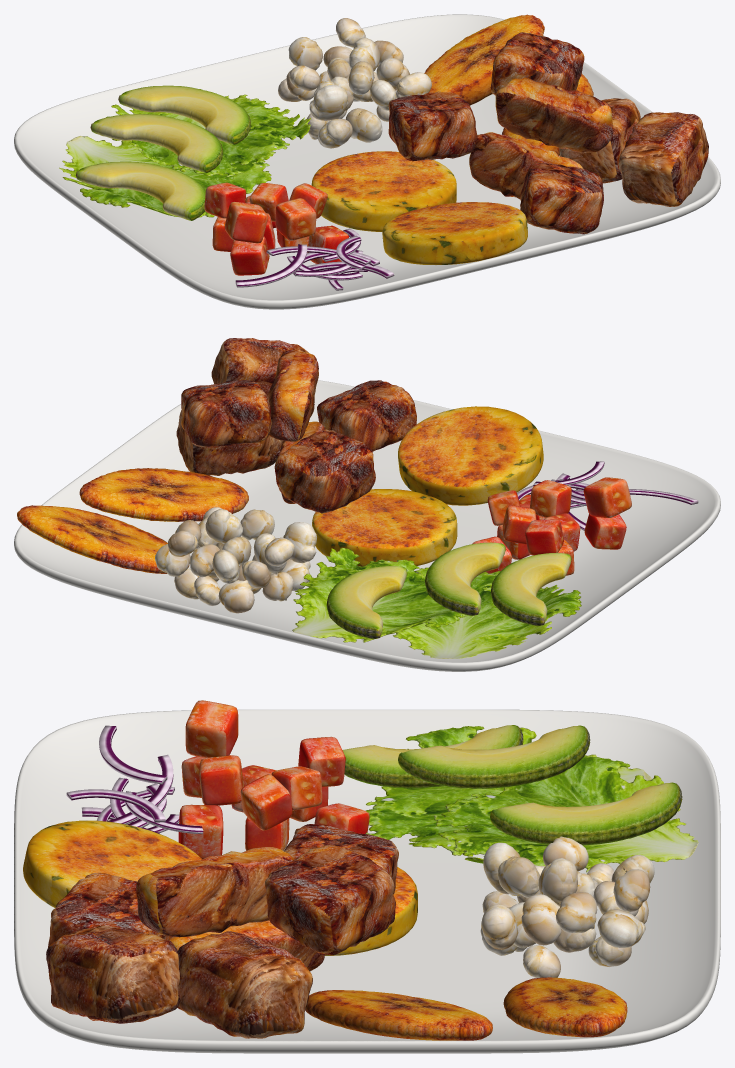
File: fritada.glb
The picture shows the model from 3 angles, top to bottom: view 1: azimuth 30°, elevation 25°; view 2: azimuth 150°, elevation 25°; view 3: azimuth 270°, elevation 25°; orthographic projection. The views are drawn at different scales.
Visible parts, largest first — view 1: plato, llapingacho.001, llapingacho.003, carneA.002, carneB.001, carneC.002, carneC.001, lechuga.003, lechuga.002, maduro.001, aguacate.003, aguacate.001 (+27 smaller); view 2: plato, llapingacho.003, llapingacho.001, maduro.002, lechuga.003, carneC.002, lechuga.002, maduro.001, carneC.003, carneC.001, aguacate.003, aguacate.001 (+26 smaller); view 3: plato, carneA.001, lechuga.003, carneA.002, carneC.003, carneB.001, llapingacho.003, aguacate.003, aguacate.001, maduro.002, lechuga.002, maduro.001 (+32 smaller).
Boxes of the visible parts, <box> form: plato: <box>14,14,720,309</box>; llapingacho.001: <box>311,151,456,231</box>; llapingacho.003: <box>382,202,527,264</box>; carneA.002: <box>618,112,708,206</box>; carneB.001: <box>495,77,613,152</box>; carneC.002: <box>388,91,477,161</box>; carneC.001: <box>520,162,603,234</box>; lechuga.003: <box>106,94,310,177</box>; lechuga.002: <box>59,136,271,217</box>; maduro.001: <box>424,14,544,105</box>; aguacate.003: <box>90,113,223,173</box>; aguacate.001: <box>118,85,250,144</box>; plato: <box>14,380,720,671</box>; llapingacho.003: <box>398,406,543,505</box>; llapingacho.001: <box>312,489,457,566</box>; maduro.002: <box>79,468,248,521</box>; lechuga.003: <box>292,547,465,642</box>; carneC.002: <box>274,429,375,513</box>; lechuga.002: <box>393,567,581,658</box>; maduro.001: <box>17,505,189,573</box>; carneC.003: <box>181,380,271,447</box>; carneC.001: <box>317,380,416,451</box>; aguacate.003: <box>425,542,505,615</box>; aguacate.001: <box>326,565,407,639</box>; plato: <box>14,709,720,1053</box>; carneA.001: <box>177,931,312,1038</box>; lechuga.003: <box>433,756,698,872</box>; carneA.002: <box>46,925,180,1023</box>; carneC.003: <box>264,845,395,955</box>; carneB.001: <box>136,847,293,937</box>; llapingacho.003: <box>23,820,202,907</box>; aguacate.003: <box>398,725,590,788</box>; aguacate.001: <box>490,782,682,845</box>; maduro.002: <box>305,990,492,1040</box>; lechuga.002: <box>365,726,651,858</box>; maduro.001: <box>503,977,627,1037</box>.
Bounding box in the file's own units: 0.2625 × 0.0621 × 0.2349.
Materials: 13 (12 with a texture image).
